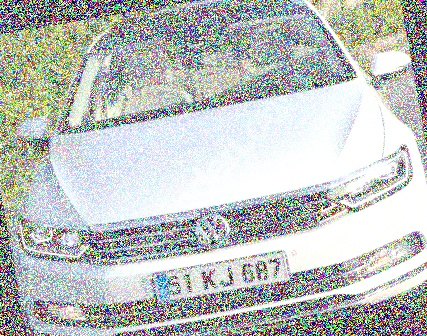plaka: (165, 253, 283, 298)
